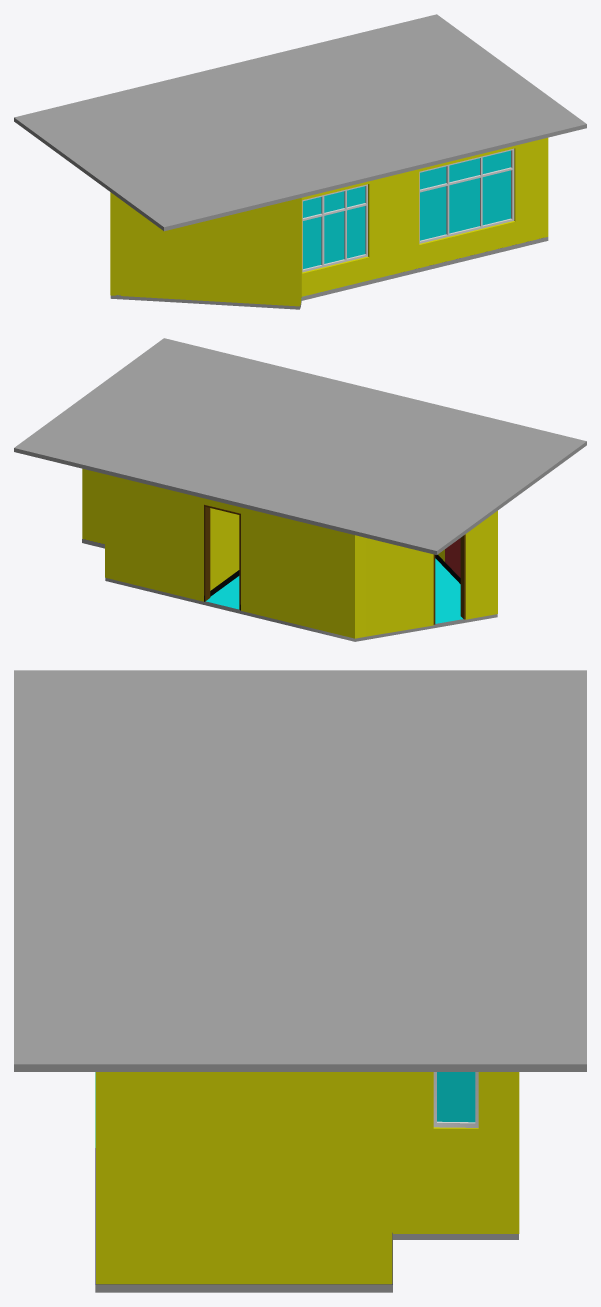
File: Wing_B_Flat_No_04_Type01MtID.fbx
The picture shows the model from 3 angles, top to bottom: view 1: azimuth 30°, elevation 25°; view 2: azimuth 150°, elevation 25°; view 3: azimuth 270°, elevation 25°; orthographic projection. The views are drawn at different scales.
Parts seen in each view (by area): view 1: Roof1, Flat_04_wall_01, Glass1 (×2), Window_Frame (×2), Flat_04_Floor_01; view 2: Roof1, Flat_04_wall_01, Flat_04_Floor_01, Flat_No_01_Type02:Flat_No_01_Type01:Flat_No_03_celling__Door, pCube4; view 3: Roof1, Flat_04_wall_01, Flat_04_Floor_01, BathRoom_Window:Glass3.
Part boxes in pixels (x1,y1,x2,y2): Roof1: (14,14,586,231); Flat_04_wall_01: (110,137,548,306); Glass1 (×2): (303,150,510,268); Window_Frame (×2): (302,148,514,272); Flat_04_Floor_01: (110,237,548,309); Roof1: (14,338,586,554); Flat_04_wall_01: (82,468,497,638); Flat_04_Floor_01: (82,539,497,641); Flat_No_01_Type02:Flat_No_01_Type01:Flat_No_03_celling__Door: (204,504,240,609); pCube4: (433,534,465,624); Roof1: (14,670,586,1071); Flat_04_wall_01: (95,1072,519,1284); Flat_04_Floor_01: (95,1072,518,1292); BathRoom_Window:Glass3: (437,1072,475,1122).
Size of the model in its own units: 1092 by 316 by 671.
